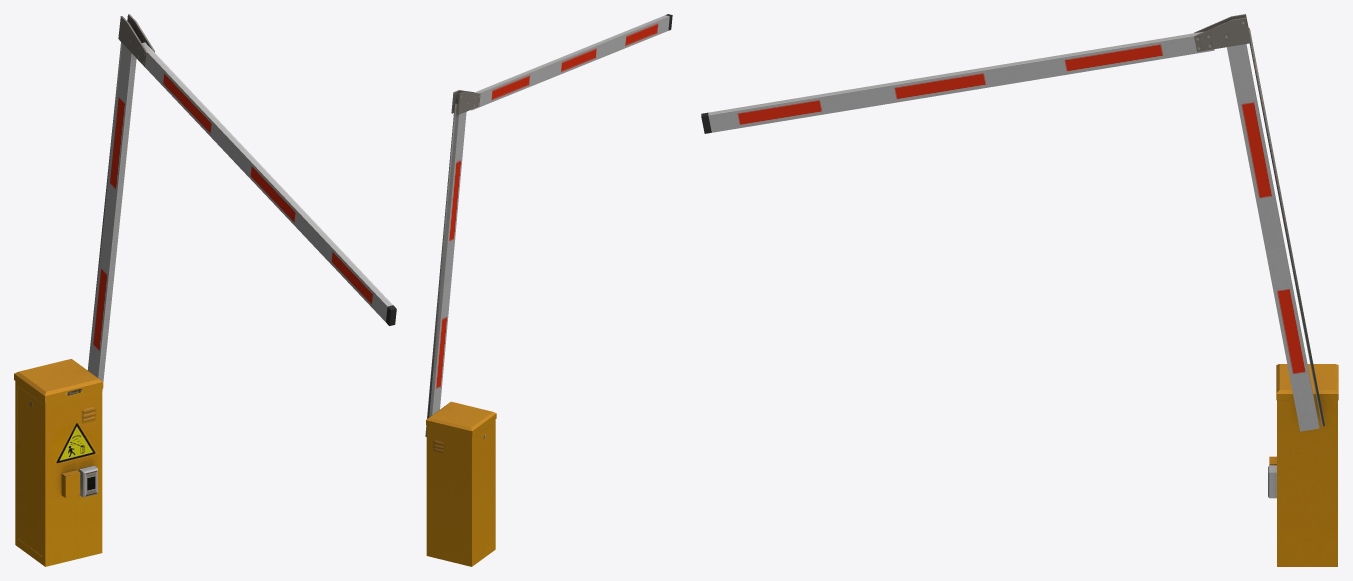
Rendered from vehicleGate.gltf.
3 renders of one model, left to right at view 1: azimuth 30°, elevation 25°; view 2: azimuth 150°, elevation 25°; view 3: azimuth 270°, elevation 25°, orthographic. The views are drawn at different scales.
Parts seen in each view (by area): view 1: vehicleGate; view 2: vehicleGate; view 3: vehicleGate.
Part boxes in pixels (box(x1,y1,x2,y2)): vehicleGate: box(14, 14, 396, 566); vehicleGate: box(425, 14, 672, 566); vehicleGate: box(701, 14, 1338, 566).
Bounding box in the file's own units: 4 × 30.09 × 31.35.
Materials: 1 (1 with a texture image).
